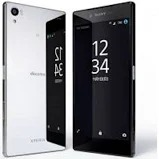sony: (71, 1, 137, 159)
